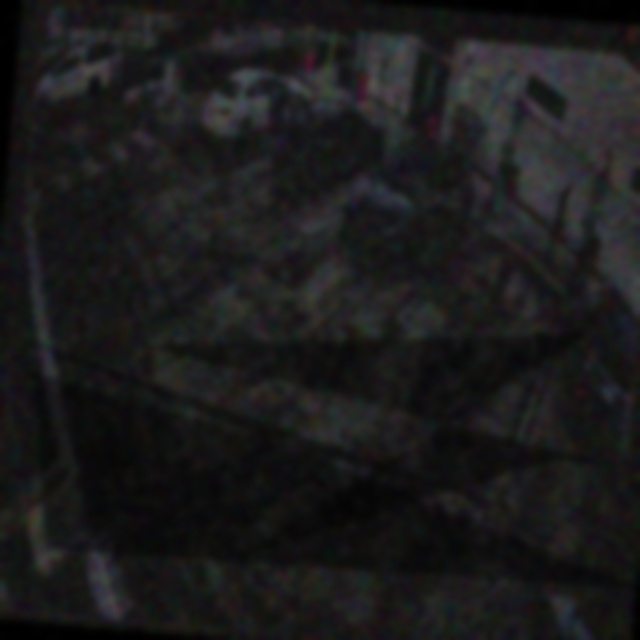Car: (342, 134, 480, 272), (274, 88, 387, 193), (202, 60, 313, 151)
